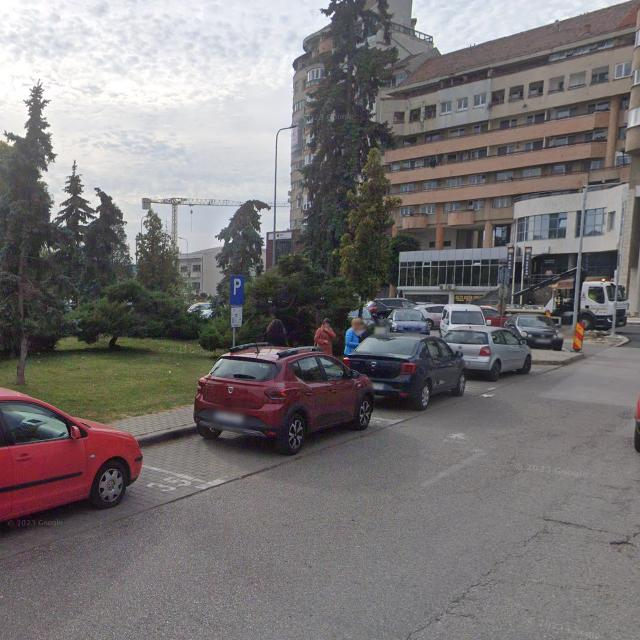info_parking: (230, 276, 244, 306)
